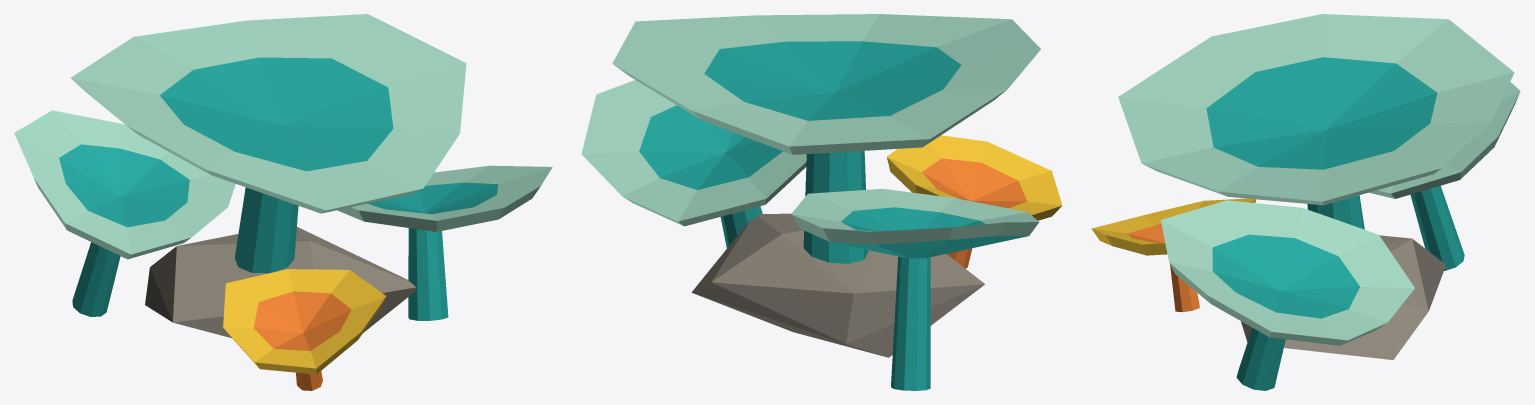
File: coral_c.glb
3 renders of one model, left to right at view 1: azimuth 30°, elevation 25°; view 2: azimuth 150°, elevation 25°; view 3: azimuth 270°, elevation 25°, orthographic. The views are drawn at different scales.
Parts seen in each view (by area): view 1: coral_c; view 2: coral_c; view 3: coral_c.
Part boxes in pixels (x1=…): coral_c: x1=14, y1=14, x2=552, y2=390; coral_c: x1=581, y1=14, x2=1062, y2=390; coral_c: x1=1091, y1=14, x2=1520, y2=390.
Size of the model in its own units: 1.36 by 0.7001 by 1.13.
